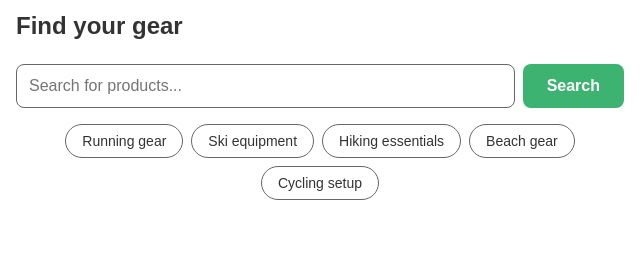
Test case: HomePage › shows 'No products found' for empty completed results
The image size is (641, 266).
Note: Trigger search to set hasSearched
Click the button "Running gear" at x=124, y=141, box [65,124,183,158]
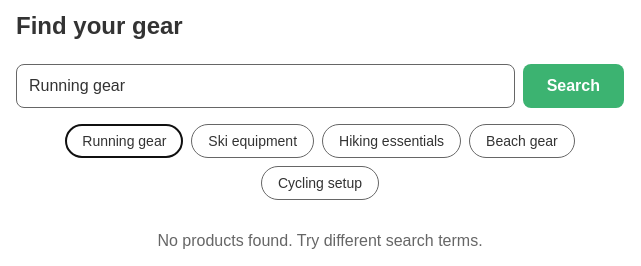
Expected: the text "No products found. Try different search terms." is shown, [157,232,483,249]
